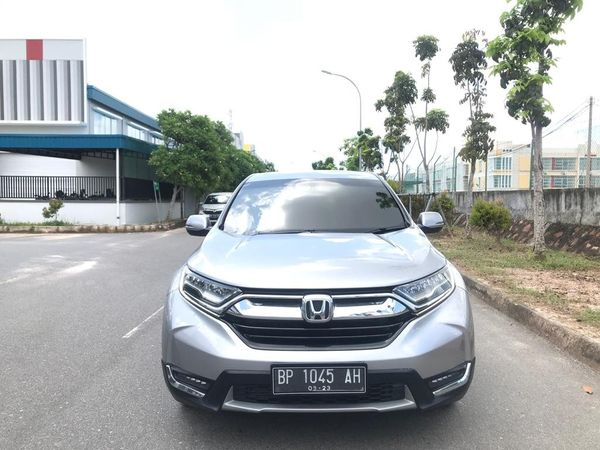plate: (270, 366, 365, 392)
